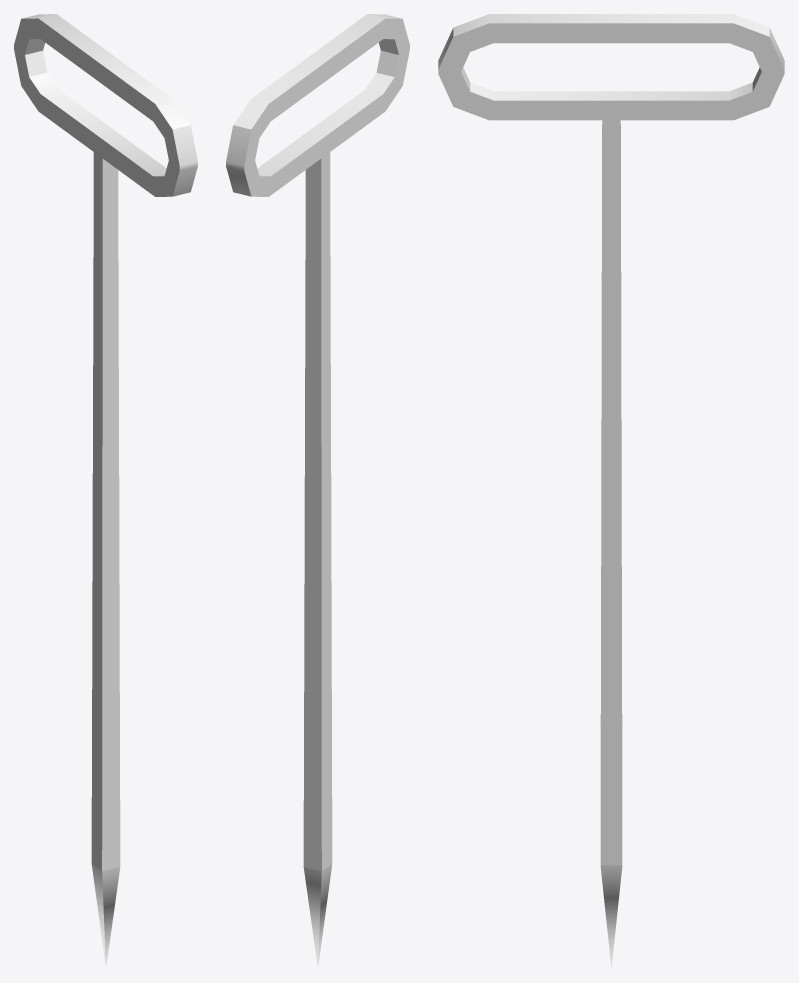
File: Marker.FBX
The picture shows the model from 3 angles, left to right: view 1: azimuth 30°, elevation 25°; view 2: azimuth 150°, elevation 25°; view 3: azimuth 270°, elevation 25°; orthographic projection. The views are drawn at different scales.
Visible parts, largest first — view 1: Marker; view 2: Marker; view 3: Marker.
Boxes of the visible parts, x1,y1,x2,y2 form: Marker: (14, 14, 197, 967); Marker: (226, 14, 409, 967); Marker: (438, 14, 784, 968).
Bounding box in the file's own units: 0.1109 × 5.29 × 1.75.
